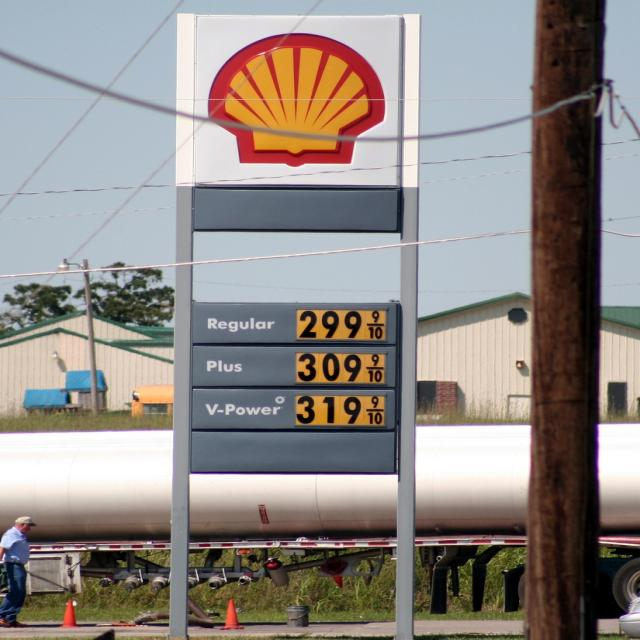shell: (208, 32, 387, 169)
